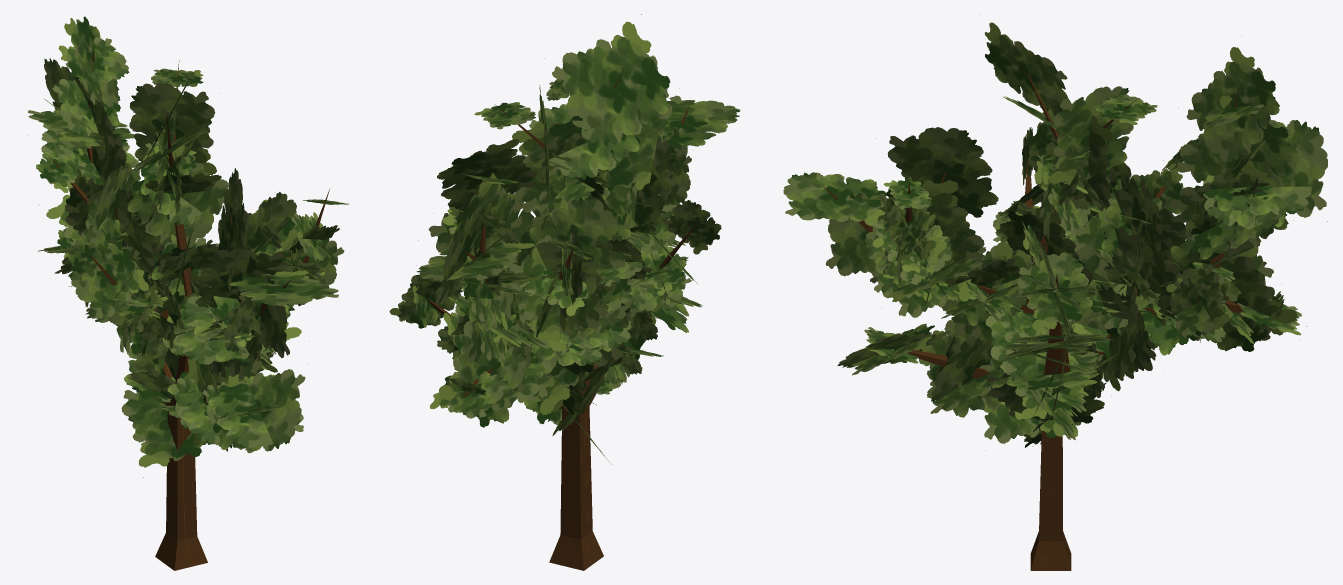
The model's file is arvore-simples.fbx.
3 views of the same model, side by side, from view 1: azimuth 30°, elevation 25°; view 2: azimuth 150°, elevation 25°; view 3: azimuth 270°, elevation 25° (orthographic). The views are drawn at different scales.
Parts seen in each view (by area): view 1: Cube, Cube|Plane|Dupli|97, Cube|Plane|Dupli|131, Cube|Plane|Dupli|35, Cube|Plane|Dupli|, Cube|Plane|Dupli|160, Cube|Plane|Dupli|124, Cube|Plane|Dupli|137, Cube|Plane|Dupli|128, Cube|Plane|Dupli|65, Cube|Plane|Dupli|125, Cube|Plane|Dupli|82 (+41 smaller); view 2: Cube|Plane|Dupli|44, Cube, Cube|Plane|Dupli|95, Cube|Plane|Dupli|65, Cube|Plane|Dupli|128, Cube|Plane|Dupli|43, Cube|Plane|Dupli|105, Cube|Plane|Dupli|125, Cube|Plane|Dupli|55, Cube|Plane|Dupli|124, Cube|Plane|Dupli|87, Cube|Plane|Dupli|64 (+39 smaller); view 3: Cube, Cube|Plane|Dupli|125, Cube|Plane|Dupli|65, Cube|Plane|Dupli|97, Cube|Plane|Dupli|128, Cube|Plane|Dupli|44, Cube|Plane|Dupli|182, Cube|Plane|Dupli|64, Cube|Plane|Dupli|55, Cube|Plane|Dupli|71, Cube|Plane|Dupli|130, Cube|Plane|Dupli|127 (+47 smaller).
Boxes of the visible parts, bbox=[...] form: Cube: bbox=[49, 46, 329, 570]; Cube|Plane|Dupli|97: bbox=[129, 82, 216, 175]; Cube|Plane|Dupli|131: bbox=[213, 369, 305, 453]; Cube|Plane|Dupli|35: bbox=[127, 135, 228, 246]; Cube|Plane|Dupli|: bbox=[121, 390, 206, 477]; Cube|Plane|Dupli|160: bbox=[70, 243, 156, 318]; Cube|Plane|Dupli|124: bbox=[195, 248, 288, 308]; Cube|Plane|Dupli|137: bbox=[208, 366, 303, 448]; Cube|Plane|Dupli|128: bbox=[229, 270, 338, 305]; Cube|Plane|Dupli|65: bbox=[64, 16, 120, 107]; Cube|Plane|Dupli|125: bbox=[218, 168, 247, 301]; Cube|Plane|Dupli|82: bbox=[52, 79, 120, 136]; Cube|Plane|Dupli|44: bbox=[544, 14, 670, 146]; Cube: bbox=[428, 71, 699, 570]; Cube|Plane|Dupli|95: bbox=[528, 196, 641, 270]; Cube|Plane|Dupli|65: bbox=[437, 139, 537, 211]; Cube|Plane|Dupli|128: bbox=[662, 95, 740, 148]; Cube|Plane|Dupli|43: bbox=[529, 103, 640, 180]; Cube|Plane|Dupli|105: bbox=[512, 116, 609, 212]; Cube|Plane|Dupli|125: bbox=[606, 88, 679, 195]; Cube|Plane|Dupli|55: bbox=[433, 320, 534, 427]; Cube|Plane|Dupli|124: bbox=[634, 135, 674, 230]; Cube|Plane|Dupli|87: bbox=[509, 235, 561, 347]; Cube|Plane|Dupli|64: bbox=[449, 172, 530, 264]; Cube: bbox=[820, 73, 1273, 570]; Cube|Plane|Dupli|125: bbox=[875, 127, 998, 217]; Cube|Plane|Dupli|65: bbox=[1178, 36, 1279, 165]; Cube|Plane|Dupli|97: bbox=[1049, 86, 1133, 185]; Cube|Plane|Dupli|128: bbox=[783, 172, 886, 226]; Cube|Plane|Dupli|44: bbox=[980, 14, 1070, 111]; Cube|Plane|Dupli|182: bbox=[1017, 252, 1092, 338]; Cube|Plane|Dupli|64: bbox=[1163, 84, 1298, 187]; Cube|Plane|Dupli|55: bbox=[1217, 248, 1306, 351]; Cube|Plane|Dupli|71: bbox=[1228, 120, 1327, 221]; Cube|Plane|Dupli|130: bbox=[886, 169, 997, 266]; Cube|Plane|Dupli|127: bbox=[825, 192, 892, 277].
Size of the model in its own units: 491 by 866 by 804.
